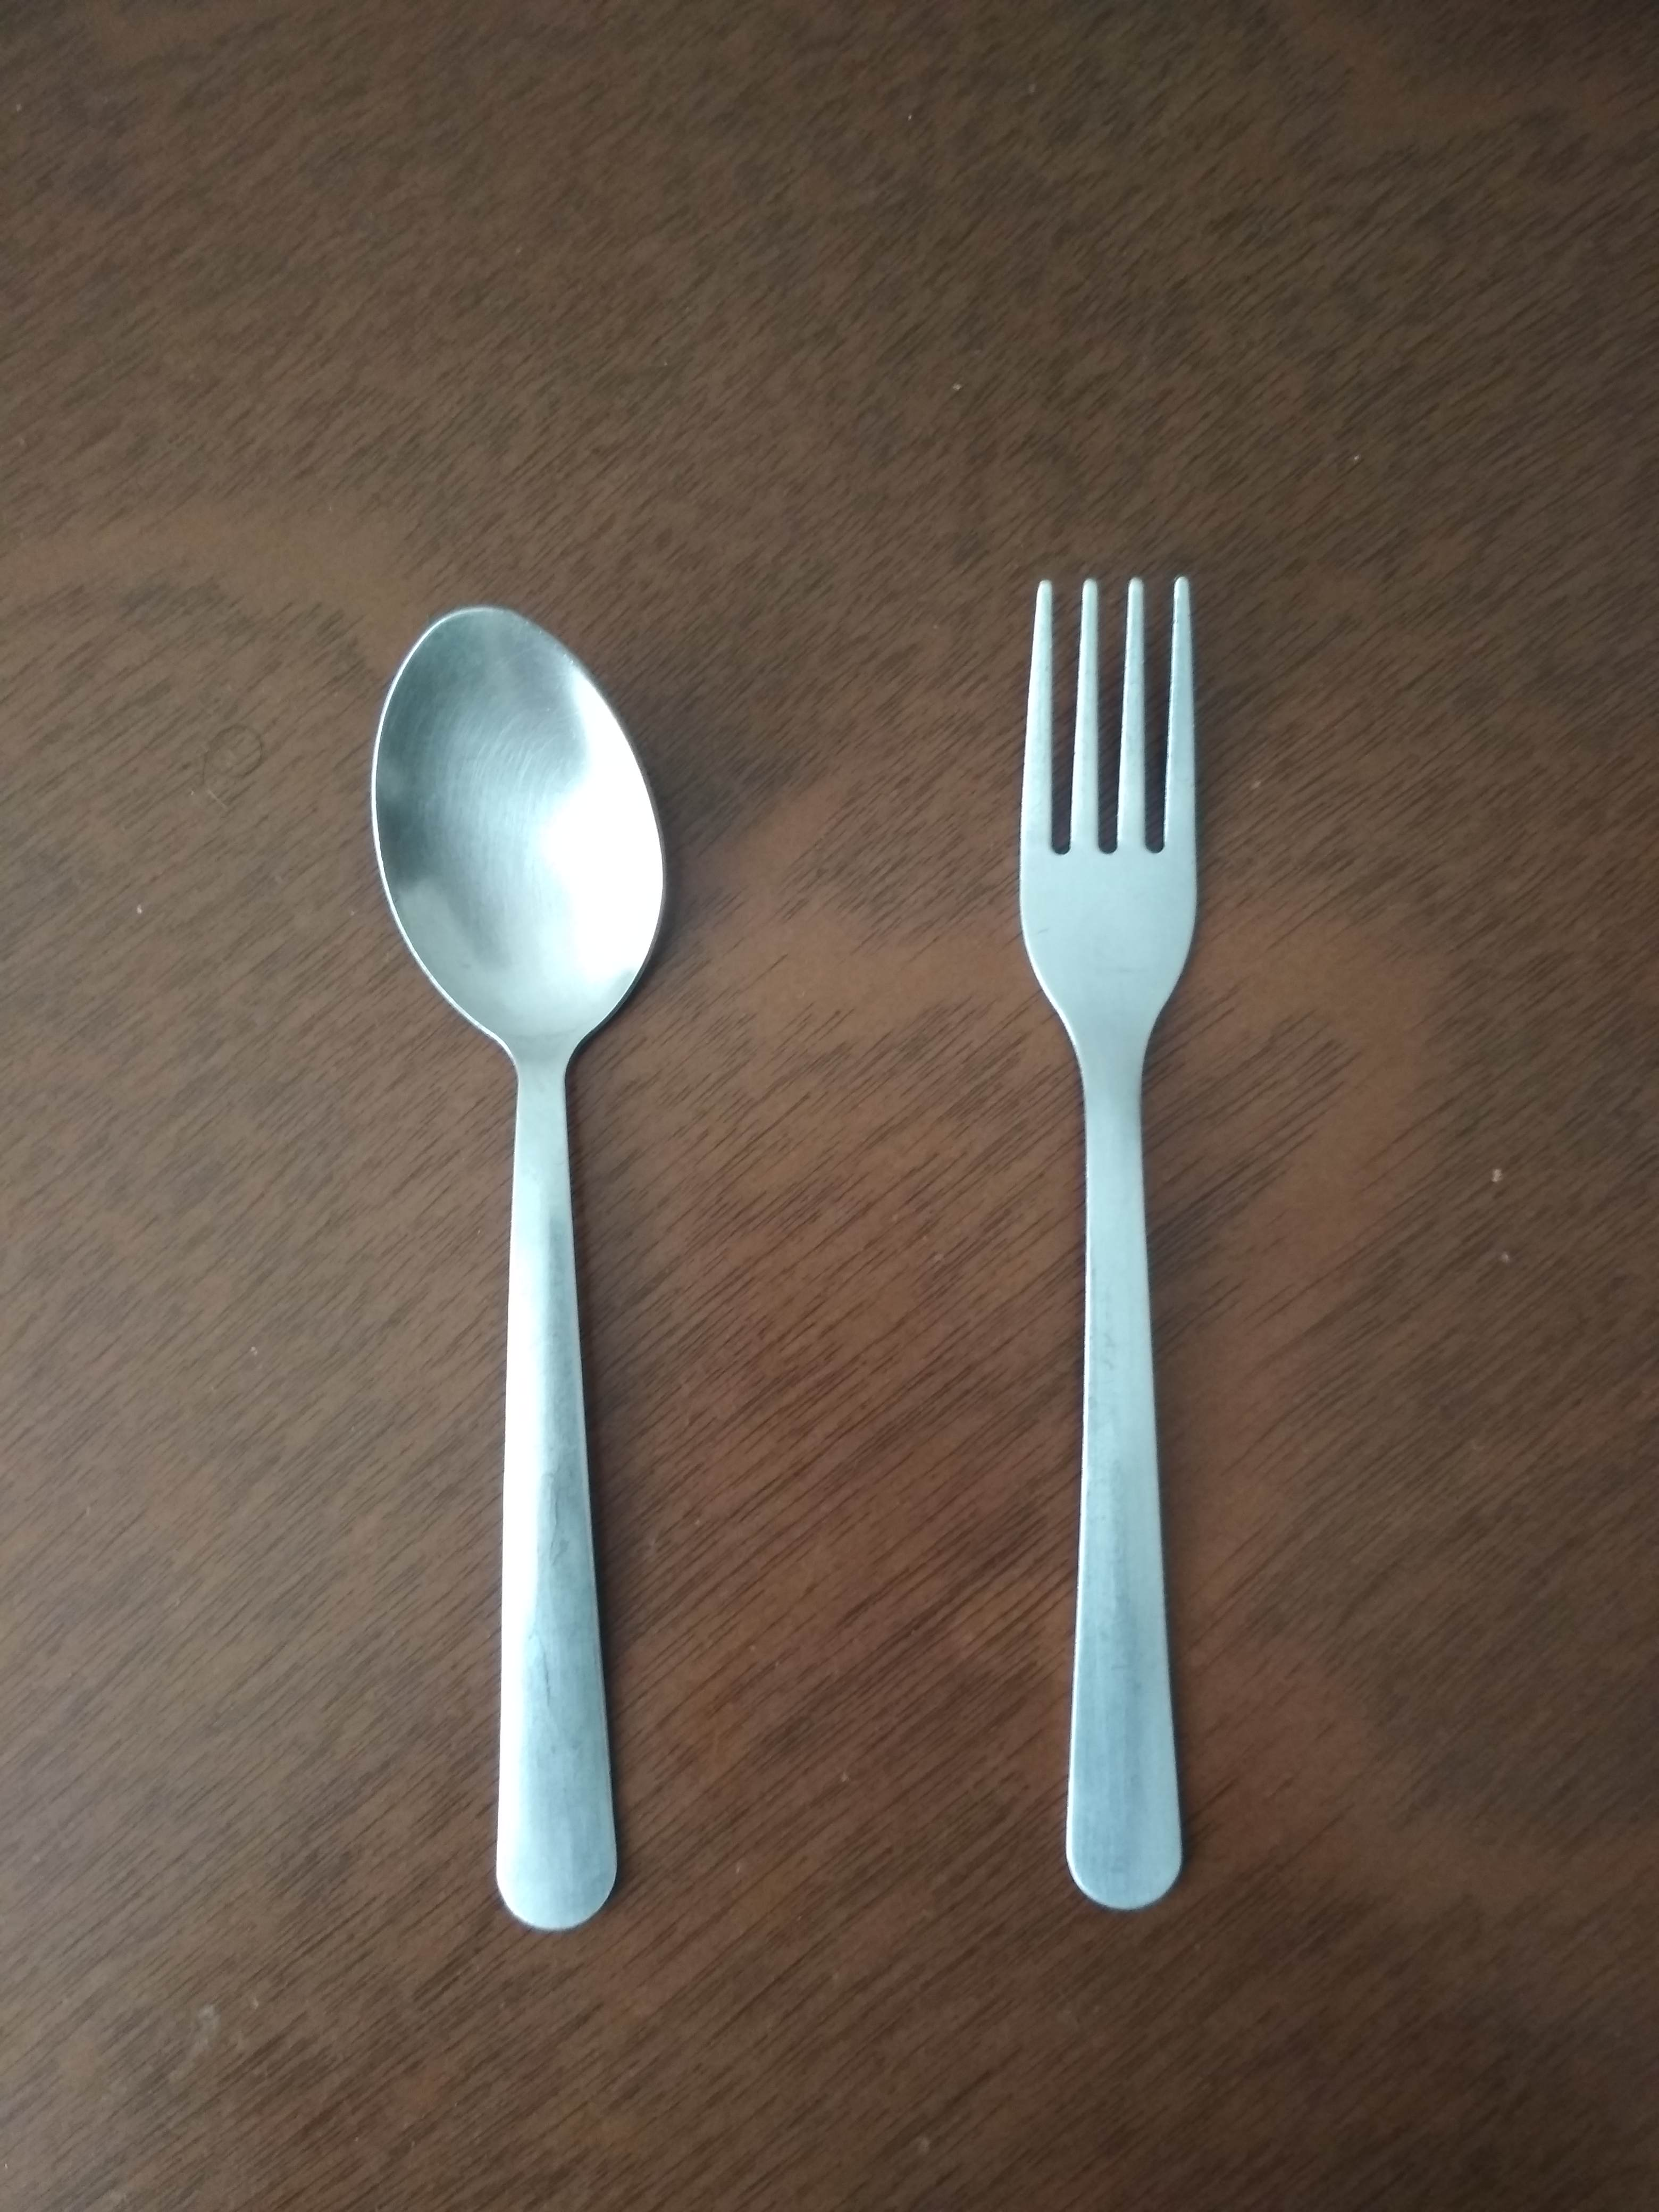fork: (992, 554, 1236, 1932)
spoon: (340, 577, 697, 1966)
